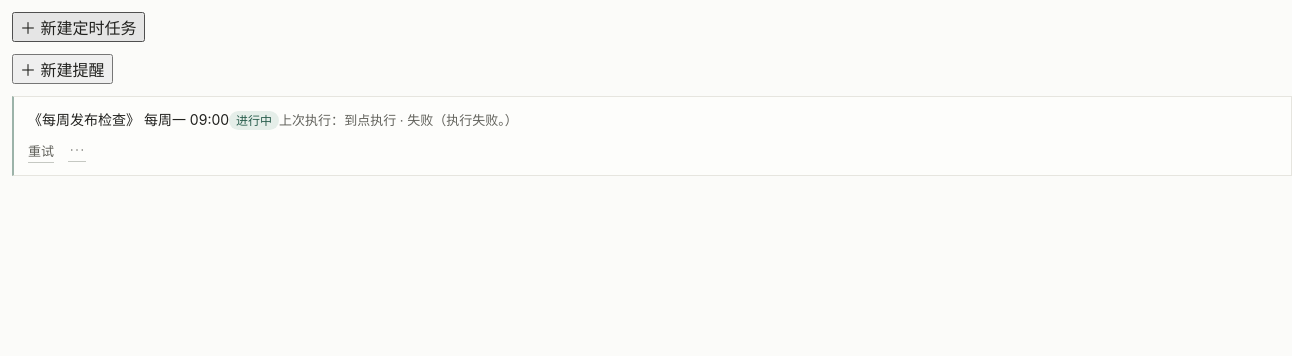
Test: A2 item 8：状态操作的失败逐类指名（不再塌成一句话） › 404/不存在：如实说这条安排已经不存在（可能已在别处删除）
Click the button named "更多操作": (77, 151) [68,139,86,162]
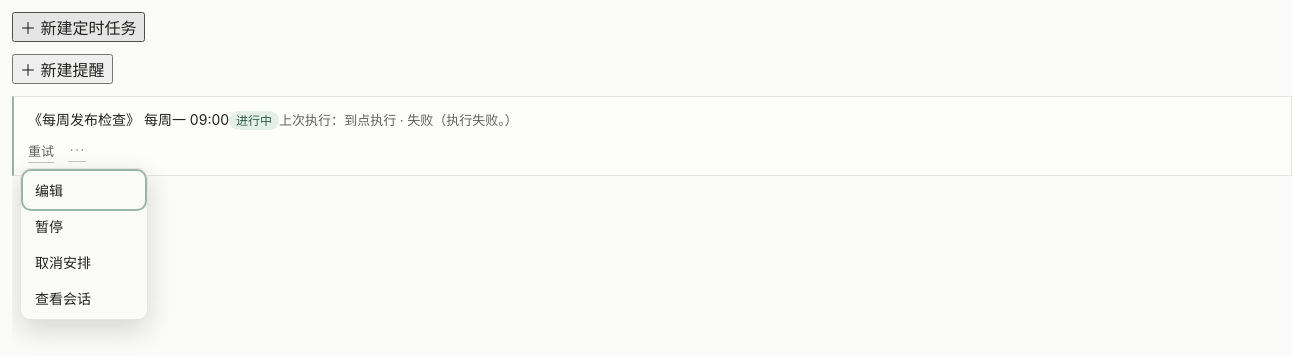
Click the menu item "暂停": (84, 226) [25,209,143,243]
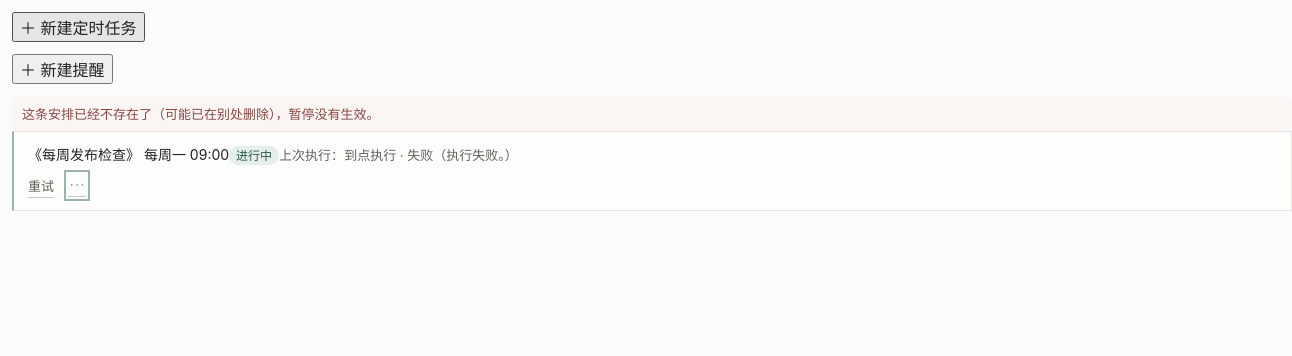
Now the message "这条安排已经不存在了（可能已在别处删除），暂停没有生效。" is shown, box [12,96,1291,131]
